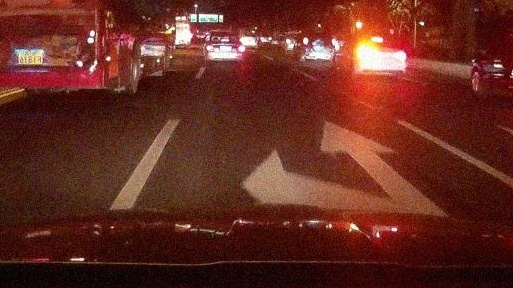L_light: (358, 51, 370, 58), (206, 45, 214, 51)
R_light: (394, 53, 405, 59), (236, 46, 243, 52)
T_light: (372, 37, 383, 42), (221, 38, 229, 41)
night-brake: (205, 31, 243, 65)
night-left: (355, 35, 406, 78)
